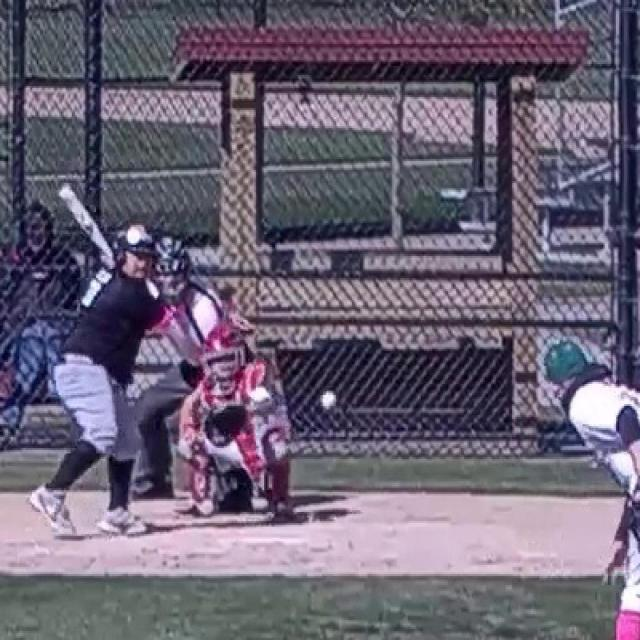baseball: (322, 392, 336, 408)
